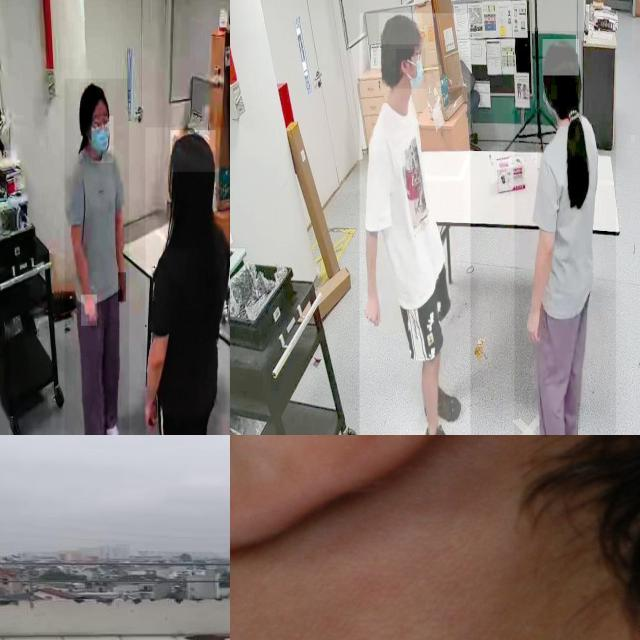No_Ear-Protection: (230, 435, 549, 563)
face_mask: (396, 49, 426, 89), (92, 116, 114, 163)
hand_noglove: (142, 390, 160, 430), (524, 306, 542, 344), (363, 293, 382, 327), (81, 294, 97, 326), (118, 272, 126, 302)
head_nohelmet: (170, 130, 216, 173), (379, 12, 423, 46), (542, 39, 580, 76), (79, 82, 107, 106)
person: (359, 13, 470, 435), (514, 31, 616, 435), (145, 127, 228, 435), (64, 78, 129, 435)
shoes: (422, 386, 463, 421), (98, 404, 120, 435), (420, 421, 462, 435), (83, 416, 108, 435)
